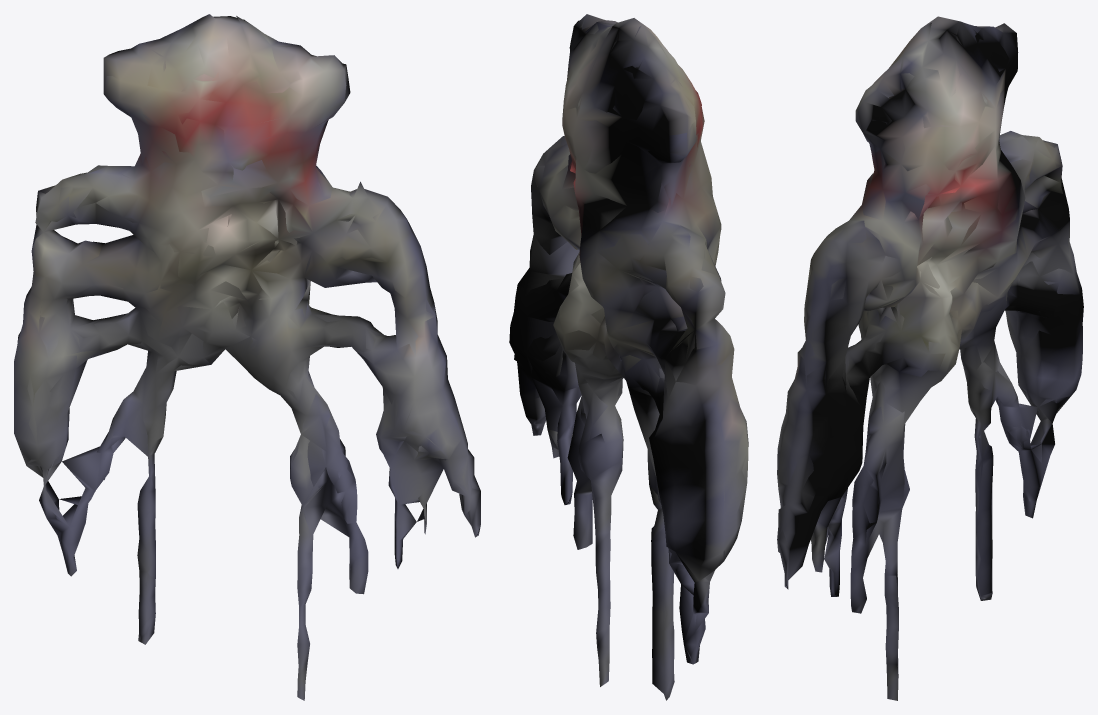
The model's file is giant_squid.glb.
3 views of the same model, side by side, from view 1: azimuth 30°, elevation 25°; view 2: azimuth 150°, elevation 25°; view 3: azimuth 270°, elevation 25° (orthographic). The views are drawn at different scales.
Visible parts, largest first — view 1: giant_squid; view 2: giant_squid; view 3: giant_squid.
Part boxes in pixels (x1,y1,x2,y2): giant_squid: [14, 14, 480, 700]; giant_squid: [509, 14, 748, 700]; giant_squid: [777, 16, 1083, 700].
Size of the model in its own units: 1.13 by 2.21 by 0.9359.
